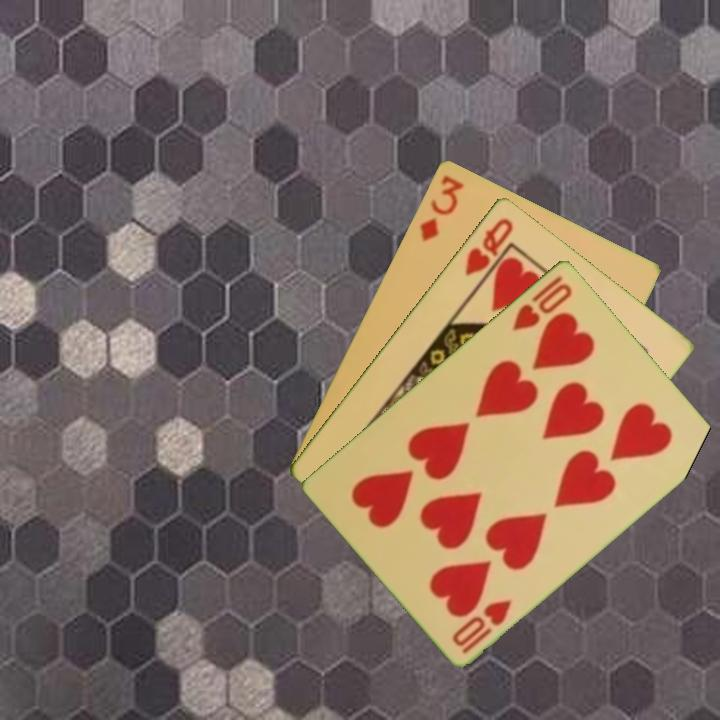10h: (508, 271, 575, 334), (448, 595, 515, 657)
3d: (415, 171, 467, 244)
Qh: (461, 213, 516, 278)
